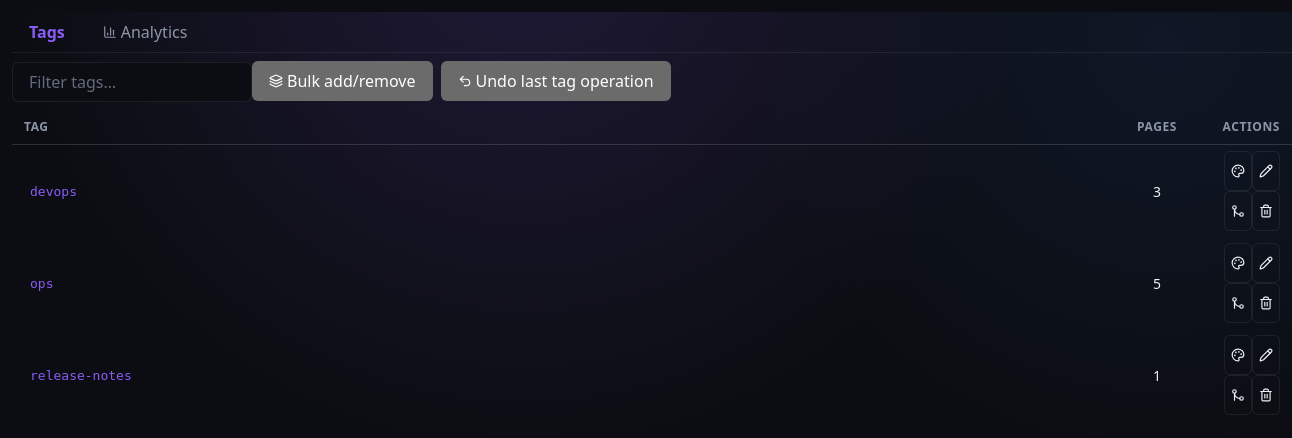
TagManagement (TM-04) › filter narrows the table by case-insensitive substring
The width and height of the screenshot is (1292, 438).
Type "dev" into the field labelled "Filter tags…" at {"x": 132, "y": 82}, box [12, 62, 252, 102]
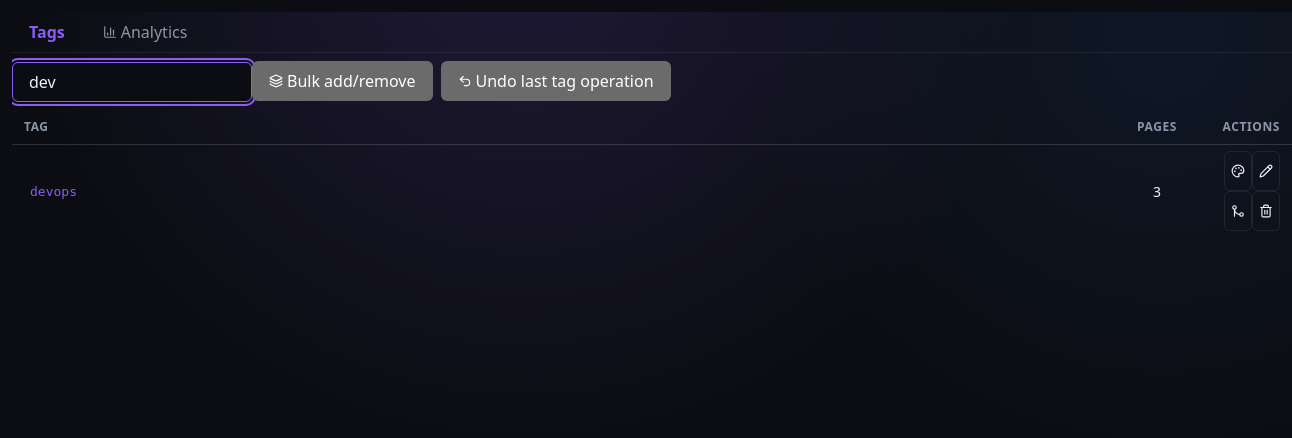
Expected: the text "devops" is shown, [30, 184, 77, 199]
Expected: the number of rows is 2, [12, 110, 1291, 144]; [12, 144, 1291, 237]
Expected: the text "release-notes" is gone
Clear the field named "Filter tags" at {"x": 132, "y": 82}, box [12, 62, 252, 102]
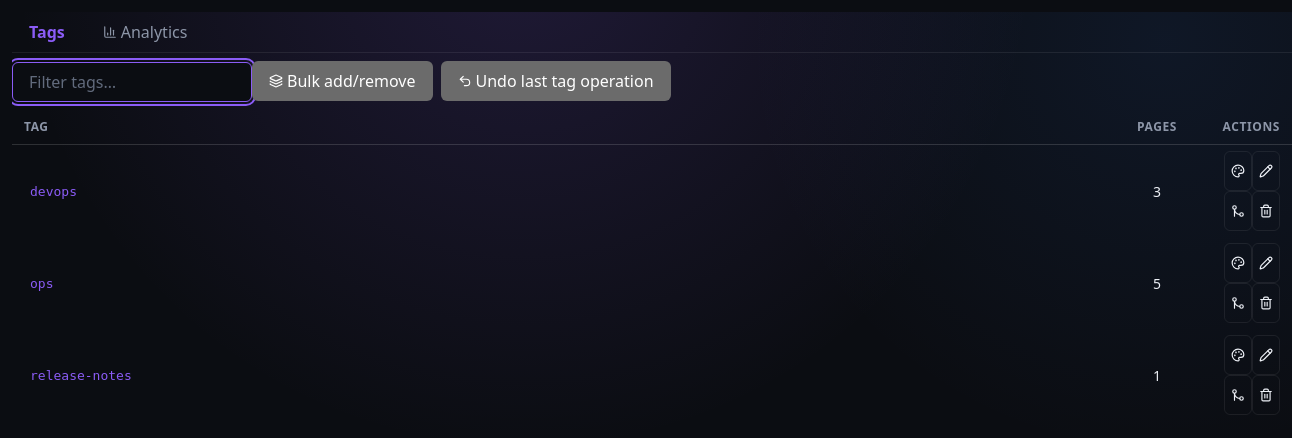
Expected: the number of rows is 4, [12, 110, 1291, 144]; [12, 144, 1291, 237]; [12, 237, 1291, 329]; [12, 329, 1291, 421]
